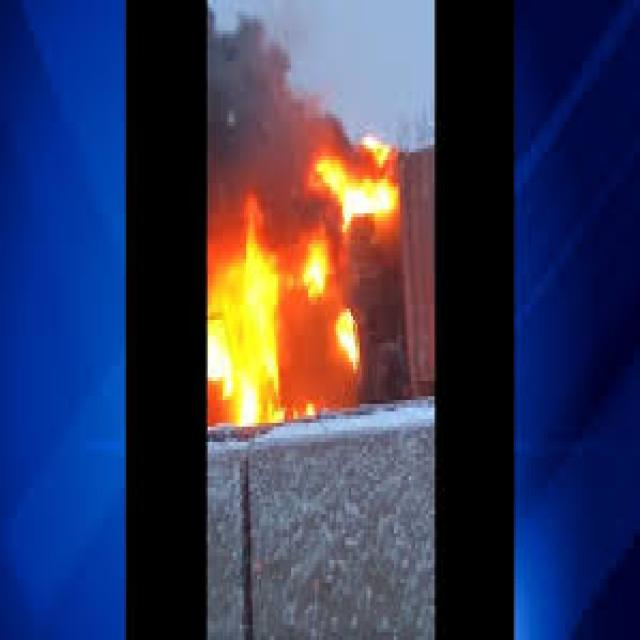Fire: (205, 119, 410, 454)
Smoke: (182, 3, 300, 178)
